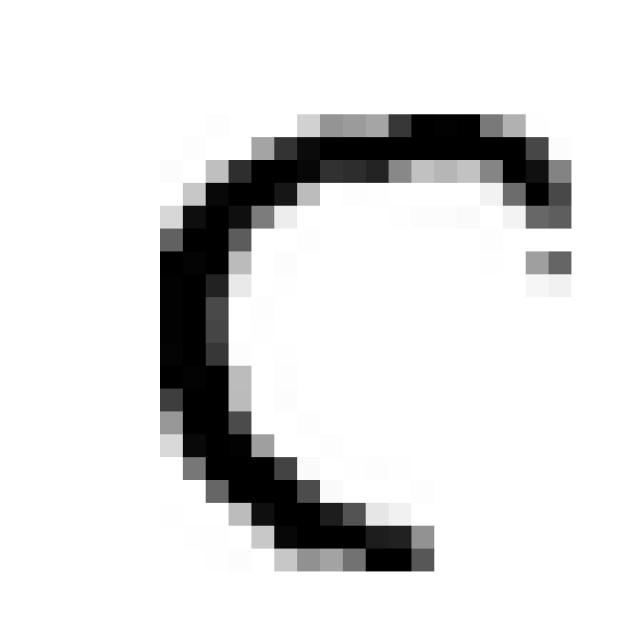2 -two-: (137, 89, 593, 586)
